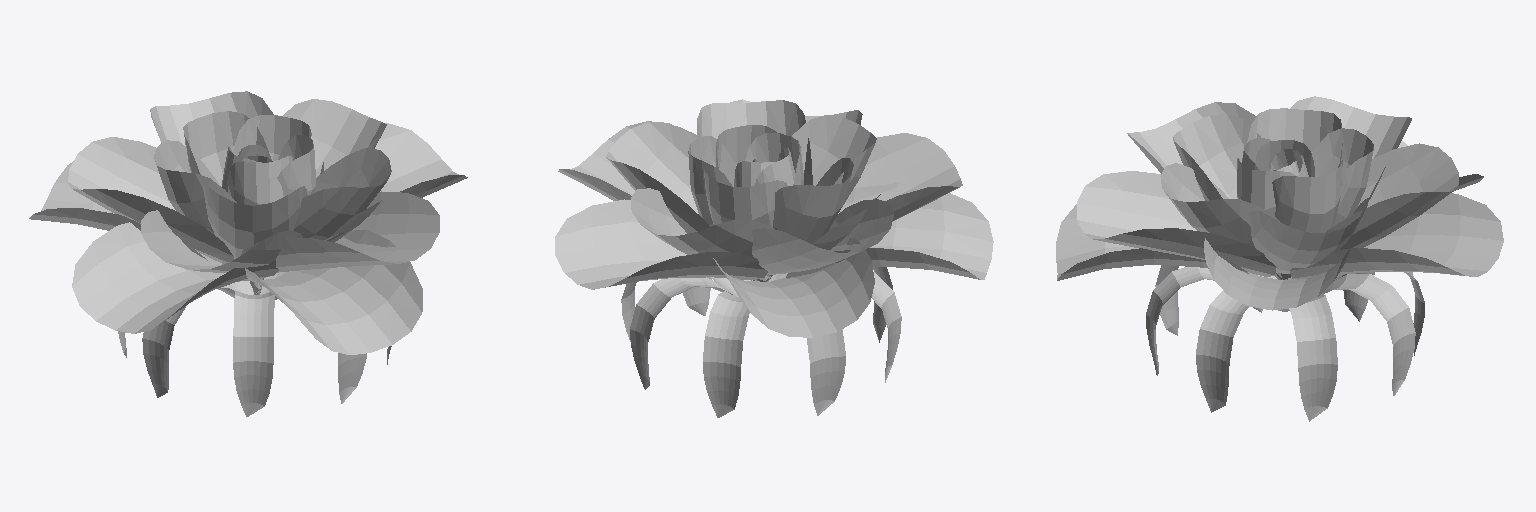
File: FlowerTopModel_03_seq_0040.obj
The picture shows the model from 3 angles: view 1: azimuth 30°, elevation 25°; view 2: azimuth 150°, elevation 25°; view 3: azimuth 270°, elevation 25°; orthographic projection.
Visible parts, largest first — view 1: FlowerTopModel_03; view 2: FlowerTopModel_03; view 3: FlowerTopModel_03.
Part boxes in pixels (bbox=[...]): FlowerTopModel_03: bbox=[29, 91, 467, 416]; FlowerTopModel_03: bbox=[555, 99, 993, 417]; FlowerTopModel_03: bbox=[1056, 96, 1503, 421].
Size of the model in its own units: 903 by 487 by 902.